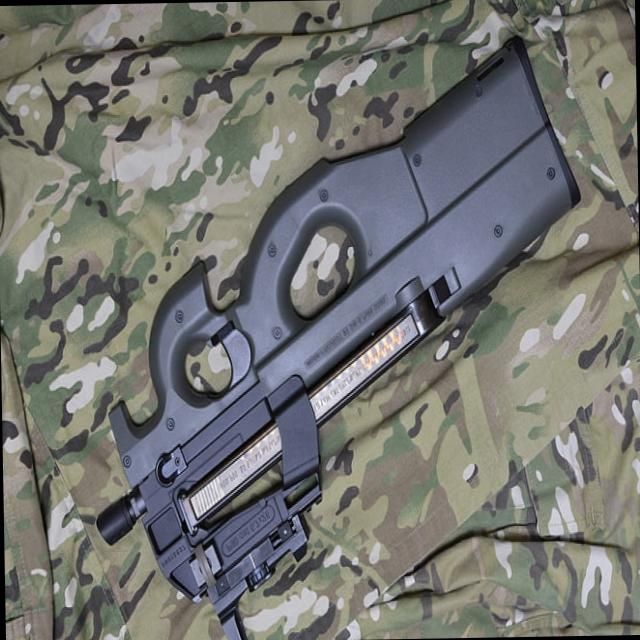Gun: (64, 52, 607, 640)
